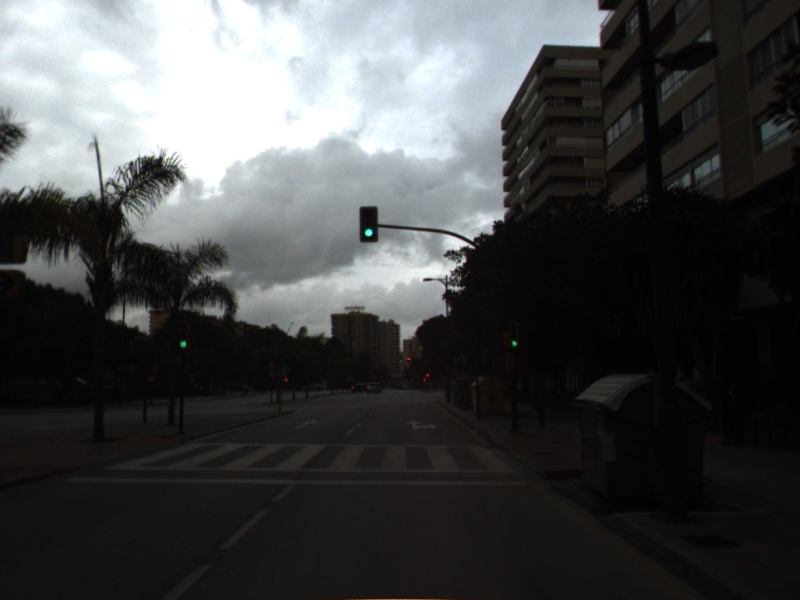STRAIGHT: (290, 417, 320, 432)
STRAIGHT_RIGHT: (403, 417, 441, 433)
